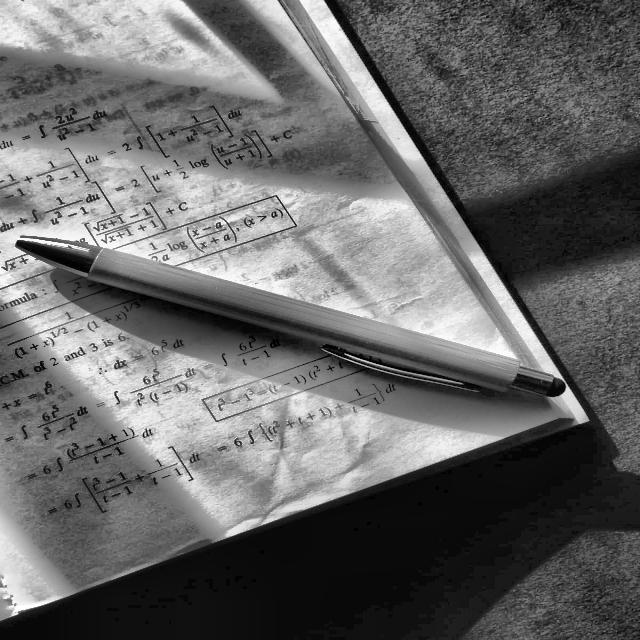Pen: (0, 232, 569, 400)
